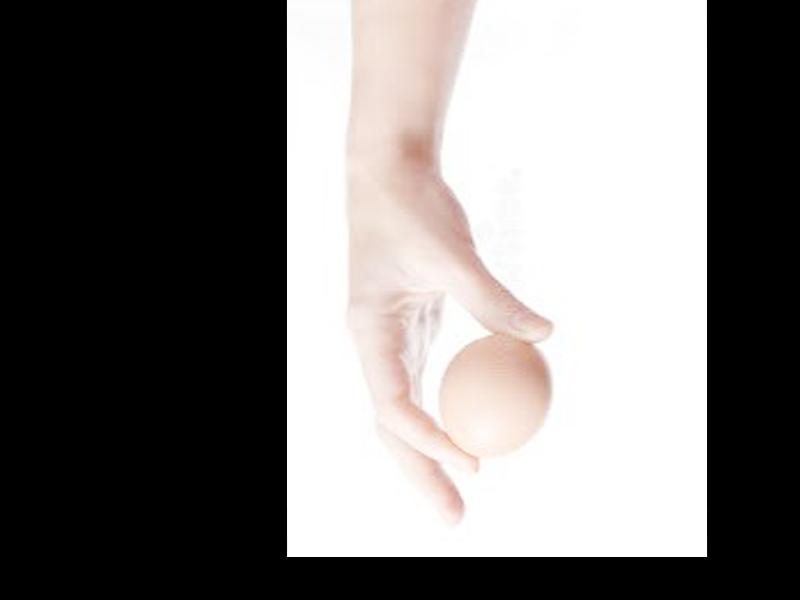Eggs: (441, 332, 551, 456)
